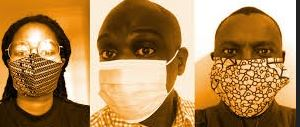with_facemask: (209, 56, 295, 121), (98, 60, 174, 122), (6, 56, 67, 99)
